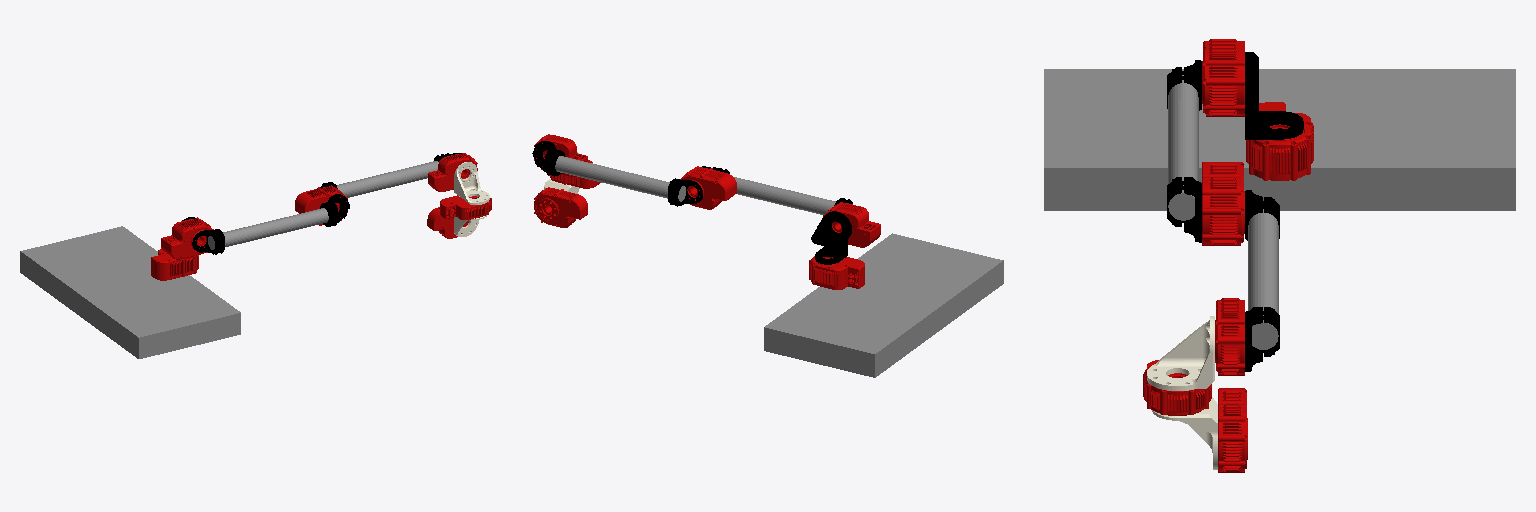
The robot description file, URDF, robot "A-2085-06":
<?xml version="1.0" ?>
<!-- =================================================================================== -->
<!-- |    This document was autogenerated by xacro from A-2085-06.xacro                | -->
<!-- |    EDITING THIS FILE BY HAND IS NOT RECOMMENDED                                 | -->
<!-- =================================================================================== -->
<robot name="A-2085-06" xmlns:xacro="http://www.ros.org/wiki/xacro">
  <!-- *************************** XACRO MACROS *************************** -->
  <!-- ************************* ROBOT DEFINITION ************************* -->
  <link name="world"/>
  <joint name="world_joint" type="fixed">
    <origin rpy="0 0 0" xyz="0 0 0"/>
    <parent link="world"/>
    <child link="base"/>
  </joint>
  <!-- just for visualization: base post -->
  <link name="base">
    <visual>
      <origin rpy="0 0 0" xyz="-.125 0 -.0254"/>
      <geometry>
        <box size="0.25 0.5 0.0508"/>
      </geometry>
      <material name="silver">
        <color rgba="0.6 0.6 0.6 1"/>
      </material>
    </visual>
    <collision>
      <origin rpy="0 0 0" xyz="-.125 0 -.0254"/>
      <geometry>
        <box size="0.25 0.5 0.0508"/>
      </geometry>
    </collision>
    <inertial>
      <origin rpy="0 0 0" xyz=".125 0 -.0254"/>
      <mass value="1.0"/>
      <inertia ixx="1.0" ixy="0.0" ixz="0.0" iyy="1.0" iyz="0.0" izz="1.0"/>
    </inertial>
  </link>
  <joint name="base_base" type="fixed">
    <parent link="base"/>
    <child link="HEBI/base/INPUT_INTERFACE"/>
    <origin rpy="0 0 0" xyz="0 0 0"/>
  </joint>
  <link name="HEBI/base/INPUT_INTERFACE">
    <visual>
      <origin rpy="0 0 0" xyz="0 0 0"/>
      <geometry>
        <mesh filename="package://hebiros_description/meshes/x8.stl" scale="0.001 0.001 0.001"/>
      </geometry>
      <material name="red">
        <color rgba=".82 0.06 0.06 1"/>
      </material>
    </visual>
    <collision>
      <origin rpy="0 0 0" xyz="0 0 0"/>
      <geometry>
        <mesh filename="package://hebiros_description/meshes/x8.stl" scale="0.001 0.001 0.001"/>
      </geometry>
    </collision>
    <inertial>
      <origin rpy="0 0 0" xyz="-0.0145 -0.0031 0.0242"/>
      <mass value="0.480"/>
      <inertia ixx="0.000246" ixy="0.0000444" ixz="0.0000266" iyy="0.000380" iyz="0.00000422" izz="0.000463"/>
    </inertial>
  </link>
  <joint name="HEBI/base/X8_9" type="continuous">
    <parent link="HEBI/base/INPUT_INTERFACE"/>
    <child link="shoulder_bracket/INPUT_INTERFACE"/>
    <origin rpy="0 0 0" xyz="0 0 0.045"/>
    <axis xyz="0 0 1"/>
    <limit effort="20" velocity="30"/>
    <dynamics damping="0.5" friction="0.5"/>
  </joint>
  <transmission name="HEBI/base/transmission">
    <type>transmission_interface/SimpleTransmission</type>
    <joint name="HEBI/base">
      <hardwareInterface>hardware_interface/EffortJointInterface</hardwareInterface>
    </joint>
    <actuator name="HEBI/base/actuator">
      <hardwareInterface>hardware_interface/EffortJointInterface</hardwareInterface>
      <mechanicalReduction>1</mechanicalReduction>
    </actuator>
  </transmission>
  <gazebo reference="HEBI/base/INPUT_INTERFACE">
    <selfCollide>true</selfCollide>
    <gravity>true</gravity>
    <sensor name="HEBI/base/imu_sensor" type="imu">
      <always_on>true</always_on>
      <update_rate>100</update_rate>
      <visualize>true</visualize>
      <plugin filename="libgazebo_ros_imu_sensor.so" name="imu_plugin">
        <topicName>/hebiros_gazebo_plugin/imu/HEBI/base</topicName>
        <bodyName>HEBI/base/imu_link</bodyName>
        <updateRateHZ>10.0</updateRateHZ>
        <gaussianNoise>0.0</gaussianNoise>
        <xyzOffset>0.025 0 0.003</xyzOffset>
        <rpyOffset>0 0 0</rpyOffset>
        <frameName>HEBI/base/imu_link</frameName>
      </plugin>
      <pose>0 0 0 0 0 0</pose>
    </sensor>
  </gazebo>
  <link name="shoulder_bracket/INPUT_INTERFACE">
    <visual>
      <origin rpy="1.57079632679 0 1.57079632679" xyz="0 0 0.005"/>
      <geometry>
        <mesh filename="package://hebiros_description/meshes/PM-2149-01.stl" scale="0.001 0.001 0.001"/>
      </geometry>
      <material name="black">
        <color rgba="0 0 0 1"/>
      </material>
    </visual>
    <visual>
      <origin rpy="1.57079632679 0 0" xyz="0 -.03 .04"/>
      <geometry>
        <mesh filename="package://hebiros_description/meshes/PM-2150-01R.stl" scale="0.001 0.001 0.001"/>
      </geometry>
      <material name="black">
        <color rgba="0 0 0 1"/>
      </material>
    </visual>
    <collision>
      <origin rpy="1.57079632679 0 1.57079632679" xyz="0 0 0.005"/>
      <geometry>
        <mesh filename="package://hebiros_description/meshes/PM-2149-01.stl" scale="0.001 0.001 0.001"/>
      </geometry>
    </collision>
    <collision>
      <origin rpy="1.57079632679 0 0" xyz="0 -.03 .04"/>
      <geometry>
        <mesh filename="package://hebiros_description/meshes/PM-2150-01R.stl" scale="0.001 0.001 0.001"/>
      </geometry>
    </collision>
    <!-- NOTE: inertia is just modelled as small sphere, and could be improved. -->
    <inertial>
      <origin rpy="0 0 0" xyz="0 -0.01875 .0275"/>
      <mass value="0.215"/>
      <inertia ixx="0.0003096" ixy="0.0" ixz="0.0" iyy="0.0003096" iyz="0.0" izz="0.0003096"/>
    </inertial>
  </link>
  <joint name="shoulder_bracket/OUTPUT_INTERFACE" type="fixed">
    <parent link="shoulder_bracket/INPUT_INTERFACE"/>
    <child link="HEBI/shoulder/INPUT_INTERFACE"/>
    <origin rpy="1.57079632679 0 0" xyz="0 -.0375 .055"/>
  </joint>
  <gazebo reference="shoulder_bracket/INPUT_INTERFACE">
    <selfCollide>true</selfCollide>
  </gazebo>
  <link name="HEBI/shoulder/INPUT_INTERFACE">
    <visual>
      <origin rpy="0 0 0" xyz="0 0 0"/>
      <geometry>
        <mesh filename="package://hebiros_description/meshes/x8.stl" scale="0.001 0.001 0.001"/>
      </geometry>
      <material name="red">
        <color rgba=".82 0.06 0.06 1"/>
      </material>
    </visual>
    <collision>
      <origin rpy="0 0 0" xyz="0 0 0"/>
      <geometry>
        <mesh filename="package://hebiros_description/meshes/x8.stl" scale="0.001 0.001 0.001"/>
      </geometry>
    </collision>
    <inertial>
      <origin rpy="0 0 0" xyz="-0.0145 -0.0031 0.0242"/>
      <mass value="0.500"/>
      <inertia ixx="0.000246" ixy="0.0000444" ixz="0.0000266" iyy="0.000380" iyz="0.00000422" izz="0.000463"/>
    </inertial>
  </link>
  <joint name="HEBI/shoulder/X8_16" type="continuous">
    <parent link="HEBI/shoulder/INPUT_INTERFACE"/>
    <child link="shoulder_elbow/INPUT_INTERFACE"/>
    <origin rpy="0 0 0" xyz="0 0 0.045"/>
    <axis xyz="0 0 1"/>
    <limit effort="38" velocity="15"/>
    <dynamics damping="0.5" friction="0.5"/>
  </joint>
  <transmission name="HEBI/shoulder/transmission">
    <type>transmission_interface/SimpleTransmission</type>
    <joint name="HEBI/shoulder">
      <hardwareInterface>hardware_interface/EffortJointInterface</hardwareInterface>
    </joint>
    <actuator name="HEBI/shoulder/actuator">
      <hardwareInterface>hardware_interface/EffortJointInterface</hardwareInterface>
      <mechanicalReduction>1</mechanicalReduction>
    </actuator>
  </transmission>
  <gazebo reference="HEBI/shoulder/INPUT_INTERFACE">
    <selfCollide>true</selfCollide>
    <gravity>true</gravity>
    <sensor name="HEBI/shoulder/imu_sensor" type="imu">
      <always_on>true</always_on>
      <update_rate>100</update_rate>
      <visualize>true</visualize>
      <plugin filename="libgazebo_ros_imu_sensor.so" name="imu_plugin">
        <topicName>/hebiros_gazebo_plugin/imu/HEBI/shoulder</topicName>
        <bodyName>HEBI/shoulder/imu_link</bodyName>
        <updateRateHZ>10.0</updateRateHZ>
        <gaussianNoise>0.0</gaussianNoise>
        <xyzOffset>0.025 0 0.003</xyzOffset>
        <rpyOffset>0 0 0</rpyOffset>
        <frameName>HEBI/shoulder/imu_link</frameName>
      </plugin>
      <pose>0 0 0 0 0 0</pose>
    </sensor>
  </gazebo>
  <link name="shoulder_elbow/INPUT_INTERFACE">
    <visual>
      <origin rpy="0 0 0" xyz="0 0 0"/>
      <geometry>
        <mesh filename="package://hebiros_description/meshes/A-2038-02.stl"/>
      </geometry>
      <material name="black">
        <color rgba="0 0 0 1"/>
      </material>
    </visual>
    <visual>
      <origin rpy="0 1.57075 0" xyz="0.1625 0 0.02"/>
      <geometry>
        <cylinder length="0.2996" radius=".016"/>
      </geometry>
      <material name="silver">
        <color rgba="0.6 0.6 0.6 1"/>
      </material>
    </visual>
    <visual>
      <origin rpy="-3.14159265359 0 0" xyz="0.325 -2.44929359829e-18 0.0"/>
      <geometry>
        <mesh filename="package://hebiros_description/meshes/A-2039-02.stl"/>
      </geometry>
      <material name="black">
        <color rgba="0 0 0 1"/>
      </material>
    </visual>
    <collision>
      <origin rpy="0 0 0" xyz="0 0 0"/>
      <geometry>
        <mesh filename="package://hebiros_description/meshes/A-2038-02.stl"/>
      </geometry>
    </collision>
    <collision>
      <origin rpy="0 1.57075 0" xyz="0.1625 0 0.02"/>
      <geometry>
        <cylinder length="0.2996" radius=".016"/>
      </geometry>
    </collision>
    <collision>
      <origin rpy="-3.14159265359 0 0" xyz="0.325 -2.44929359829e-18 0.0"/>
      <geometry>
        <mesh filename="package://hebiros_description/meshes/A-2039-02.stl"/>
      </geometry>
    </collision>
    <!-- Approximate inertia as thin rod about x axis -->
    <inertial>
      <origin rpy="0 0 0" xyz="0.1625 0 0.02"/>
      <mass value="0.402"/>
      <inertia ixx="0.0" ixy="0.0" ixz="0.0" iyy="0.0035384375" iyz="0.0" izz="0.0035384375"/>
    </inertial>
  </link>
  <joint name="shoulder_elbow/OUTPUT_JOINT" type="fixed">
    <parent link="shoulder_elbow/INPUT_INTERFACE"/>
    <child link="HEBI/elbow/INPUT_INTERFACE"/>
    <origin rpy="3.14159265359 0 0" xyz="0.325 -2.44929359829e-18 0.0"/>
  </joint>
  <gazebo reference="shoulder_elbow/INPUT_INTERFACE">
    <selfCollide>true</selfCollide>
  </gazebo>
  <link name="HEBI/elbow/INPUT_INTERFACE">
    <visual>
      <origin rpy="0 0 0" xyz="0 0 0"/>
      <geometry>
        <mesh filename="package://hebiros_description/meshes/x8.stl" scale="0.001 0.001 0.001"/>
      </geometry>
      <material name="red">
        <color rgba=".82 0.06 0.06 1"/>
      </material>
    </visual>
    <collision>
      <origin rpy="0 0 0" xyz="0 0 0"/>
      <geometry>
        <mesh filename="package://hebiros_description/meshes/x8.stl" scale="0.001 0.001 0.001"/>
      </geometry>
    </collision>
    <inertial>
      <origin rpy="0 0 0" xyz="-0.0145 -0.0031 0.0242"/>
      <mass value="0.480"/>
      <inertia ixx="0.000246" ixy="0.0000444" ixz="0.0000266" iyy="0.000380" iyz="0.00000422" izz="0.000463"/>
    </inertial>
  </link>
  <joint name="HEBI/elbow/X8_9" type="continuous">
    <parent link="HEBI/elbow/INPUT_INTERFACE"/>
    <child link="elbow_wrist1/INPUT_INTERFACE"/>
    <origin rpy="0 0 0" xyz="0 0 0.045"/>
    <axis xyz="0 0 1"/>
    <limit effort="20" velocity="30"/>
    <dynamics damping="0.5" friction="0.5"/>
  </joint>
  <transmission name="HEBI/elbow/transmission">
    <type>transmission_interface/SimpleTransmission</type>
    <joint name="HEBI/elbow">
      <hardwareInterface>hardware_interface/EffortJointInterface</hardwareInterface>
    </joint>
    <actuator name="HEBI/elbow/actuator">
      <hardwareInterface>hardware_interface/EffortJointInterface</hardwareInterface>
      <mechanicalReduction>1</mechanicalReduction>
    </actuator>
  </transmission>
  <gazebo reference="HEBI/elbow/INPUT_INTERFACE">
    <selfCollide>true</selfCollide>
    <gravity>true</gravity>
    <sensor name="HEBI/elbow/imu_sensor" type="imu">
      <always_on>true</always_on>
      <update_rate>100</update_rate>
      <visualize>true</visualize>
      <plugin filename="libgazebo_ros_imu_sensor.so" name="imu_plugin">
        <topicName>/hebiros_gazebo_plugin/imu/HEBI/elbow</topicName>
        <bodyName>HEBI/elbow/imu_link</bodyName>
        <updateRateHZ>10.0</updateRateHZ>
        <gaussianNoise>0.0</gaussianNoise>
        <xyzOffset>0.025 0 0.003</xyzOffset>
        <rpyOffset>0 0 0</rpyOffset>
        <frameName>HEBI/elbow/imu_link</frameName>
      </plugin>
      <pose>0 0 0 0 0 0</pose>
    </sensor>
  </gazebo>
  <link name="elbow_wrist1/INPUT_INTERFACE">
    <visual>
      <origin rpy="0 0 0" xyz="0 0 0"/>
      <geometry>
        <mesh filename="package://hebiros_description/meshes/A-2038-02.stl"/>
      </geometry>
      <material name="black">
        <color rgba="0 0 0 1"/>
      </material>
    </visual>
    <visual>
      <origin rpy="0 1.57075 0" xyz="0.1625 0 0.02"/>
      <geometry>
        <cylinder length="0.2996" radius=".016"/>
      </geometry>
      <material name="silver">
        <color rgba="0.6 0.6 0.6 1"/>
      </material>
    </visual>
    <visual>
      <origin rpy="-3.14159265359 0 0" xyz="0.325 -2.44929359829e-18 0.0"/>
      <geometry>
        <mesh filename="package://hebiros_description/meshes/A-2039-02.stl"/>
      </geometry>
      <material name="black">
        <color rgba="0 0 0 1"/>
      </material>
    </visual>
    <collision>
      <origin rpy="0 0 0" xyz="0 0 0"/>
      <geometry>
        <mesh filename="package://hebiros_description/meshes/A-2038-02.stl"/>
      </geometry>
    </collision>
    <collision>
      <origin rpy="0 1.57075 0" xyz="0.1625 0 0.02"/>
      <geometry>
        <cylinder length="0.2996" radius=".016"/>
      </geometry>
    </collision>
    <collision>
      <origin rpy="-3.14159265359 0 0" xyz="0.325 -2.44929359829e-18 0.0"/>
      <geometry>
        <mesh filename="package://hebiros_description/meshes/A-2039-02.stl"/>
      </geometry>
    </collision>
    <!-- Approximate inertia as thin rod about x axis -->
    <inertial>
      <origin rpy="0 0 0" xyz="0.1625 0 0.02"/>
      <mass value="0.402"/>
      <inertia ixx="0.0" ixy="0.0" ixz="0.0" iyy="0.0035384375" iyz="0.0" izz="0.0035384375"/>
    </inertial>
  </link>
  <joint name="elbow_wrist1/OUTPUT_JOINT" type="fixed">
    <parent link="elbow_wrist1/INPUT_INTERFACE"/>
    <child link="HEBI/wrist1/INPUT_INTERFACE"/>
    <origin rpy="3.14159265359 0 0" xyz="0.325 -2.44929359829e-18 0.0"/>
  </joint>
  <gazebo reference="elbow_wrist1/INPUT_INTERFACE">
    <selfCollide>true</selfCollide>
  </gazebo>
  <link name="HEBI/wrist1/INPUT_INTERFACE">
    <visual>
      <origin rpy="0 0 0" xyz="0 0 0"/>
      <geometry>
        <mesh filename="package://hebiros_description/meshes/x5.stl" scale="0.001 0.001 0.001"/>
      </geometry>
      <material name="red">
        <color rgba=".82 0.06 0.06 1"/>
      </material>
    </visual>
    <collision>
      <origin rpy="0 0 0" xyz="0 0 0"/>
      <geometry>
        <mesh filename="package://hebiros_description/meshes/x5.stl" scale="0.001 0.001 0.001"/>
      </geometry>
    </collision>
    <inertial>
      <origin rpy="0 0 0" xyz="-0.0142 -0.0031 0.0165"/>
      <mass value="0.315"/>
      <inertia ixx="0.00015" ixy="0.0000341" ixz="0.0000118" iyy="0.000255" iyz="0.00000229" izz="0.000350"/>
    </inertial>
  </link>
  <joint name="HEBI/wrist1/X5_1" type="continuous">
    <parent link="HEBI/wrist1/INPUT_INTERFACE"/>
    <child link="wrist1_wrist2/INPUT_INTERFACE"/>
    <origin rpy="0 0 0" xyz="0 0 0.031"/>
    <axis xyz="0 0 1"/>
    <limit effort="2.5" velocity="90"/>
    <dynamics damping="0.1" friction="0.1"/>
  </joint>
  <gazebo reference="HEBI/wrist1/INPUT_INTERFACE">
    <selfCollide>true</selfCollide>
    <gravity>true</gravity>
    <sensor name="HEBI/wrist1/imu_sensor" type="imu">
      <always_on>true</always_on>
      <update_rate>100</update_rate>
      <visualize>true</visualize>
      <plugin filename="libgazebo_ros_imu_sensor.so" name="imu_plugin">
        <topicName>/hebiros_gazebo_plugin/imu/HEBI/wrist1</topicName>
        <bodyName>HEBI/wrist1/imu_link</bodyName>
        <updateRateHZ>10.0</updateRateHZ>
        <gaussianNoise>0.0</gaussianNoise>
        <xyzOffset>0.025 0 0.003</xyzOffset>
        <rpyOffset>0 0 0</rpyOffset>
        <frameName>HEBI/wrist1/imu_link</frameName>
      </plugin>
      <pose>0 0 0 0 0 0</pose>
    </sensor>
  </gazebo>
  <link name="wrist1_wrist2/INPUT_INTERFACE">
    <visual>
      <origin rpy="1.57079632679 0 -1.57079632679" xyz="0 0 0"/>
      <geometry>
        <mesh filename="package://hebiros_description/meshes/PM-2132-01R.stl" scale="0.001 0.001 0.001"/>
      </geometry>
      <material name="beige">
        <color rgba="0.96 0.945 0.871 1"/>
      </material>
    </visual>
    <collision>
      <origin rpy="1.57079632679 0 -1.57079632679" xyz="0 0 0"/>
      <geometry>
        <mesh filename="package://hebiros_description/meshes/PM-2132-01R.stl" scale="0.001 0.001 0.001"/>
      </geometry>
    </collision>
    <!-- NOTE: inertia is just modelled as small sphere, and could be improved. -->
    <inertial>
      <origin rpy="0 0 0" xyz="0 -.0215 .02"/>
      <mass value="0.1"/>
      <inertia ixx="0.000144" ixy="0.0" ixz="0.0" iyy="0.000144" iyz="0.0" izz="0.000144"/>
    </inertial>
  </link>
  <joint name="wrist1_wrist2/OUTPUT_INTERFACE" type="fixed">
    <parent link="wrist1_wrist2/INPUT_INTERFACE"/>
    <child link="HEBI/wrist2/INPUT_INTERFACE"/>
    <origin rpy="1.57079632679 0 0" xyz="0 -.043 .04"/>
  </joint>
  <gazebo reference="wrist1_wrist2/INPUT_INTERFACE">
    <selfCollide>true</selfCollide>
  </gazebo>
  <link name="HEBI/wrist2/INPUT_INTERFACE">
    <visual>
      <origin rpy="0 0 0" xyz="0 0 0"/>
      <geometry>
        <mesh filename="package://hebiros_description/meshes/x5.stl" scale="0.001 0.001 0.001"/>
      </geometry>
      <material name="red">
        <color rgba=".82 0.06 0.06 1"/>
      </material>
    </visual>
    <collision>
      <origin rpy="0 0 0" xyz="0 0 0"/>
      <geometry>
        <mesh filename="package://hebiros_description/meshes/x5.stl" scale="0.001 0.001 0.001"/>
      </geometry>
    </collision>
    <inertial>
      <origin rpy="0 0 0" xyz="-0.0142 -0.0031 0.0165"/>
      <mass value="0.315"/>
      <inertia ixx="0.00015" ixy="0.0000341" ixz="0.0000118" iyy="0.000255" iyz="0.00000229" izz="0.000350"/>
    </inertial>
  </link>
  <joint name="HEBI/wrist2/X5_1" type="continuous">
    <parent link="HEBI/wrist2/INPUT_INTERFACE"/>
    <child link="wrist2_wrist3/INPUT_INTERFACE"/>
    <origin rpy="0 0 0" xyz="0 0 0.031"/>
    <axis xyz="0 0 1"/>
    <limit effort="2.5" velocity="90"/>
    <dynamics damping="0.1" friction="0.1"/>
  </joint>
  <gazebo reference="HEBI/wrist2/INPUT_INTERFACE">
    <selfCollide>true</selfCollide>
    <gravity>true</gravity>
    <sensor name="HEBI/wrist2/imu_sensor" type="imu">
      <always_on>true</always_on>
      <update_rate>100</update_rate>
      <visualize>true</visualize>
      <plugin filename="libgazebo_ros_imu_sensor.so" name="imu_plugin">
        <topicName>/hebiros_gazebo_plugin/imu/HEBI/wrist2</topicName>
        <bodyName>HEBI/wrist2/imu_link</bodyName>
        <updateRateHZ>10.0</updateRateHZ>
        <gaussianNoise>0.0</gaussianNoise>
        <xyzOffset>0.025 0 0.003</xyzOffset>
        <rpyOffset>0 0 0</rpyOffset>
        <frameName>HEBI/wrist2/imu_link</frameName>
      </plugin>
      <pose>0 0 0 0 0 0</pose>
    </sensor>
  </gazebo>
  <link name="wrist2_wrist3/INPUT_INTERFACE">
    <visual>
      <origin rpy="1.57079632679 0 -1.57079632679" xyz="0 0 0"/>
      <geometry>
        <mesh filename="package://hebiros_description/meshes/PM-2132-01R.stl" scale="0.001 0.001 0.001"/>
      </geometry>
      <material name="beige">
        <color rgba="0.96 0.945 0.871 1"/>
      </material>
    </visual>
    <collision>
      <origin rpy="1.57079632679 0 -1.57079632679" xyz="0 0 0"/>
      <geometry>
        <mesh filename="package://hebiros_description/meshes/PM-2132-01R.stl" scale="0.001 0.001 0.001"/>
      </geometry>
    </collision>
    <!-- NOTE: inertia is just modelled as small sphere, and could be improved. -->
    <inertial>
      <origin rpy="0 0 0" xyz="0 -.0215 .02"/>
      <mass value="0.1"/>
      <inertia ixx="0.000144" ixy="0.0" ixz="0.0" iyy="0.000144" iyz="0.0" izz="0.000144"/>
    </inertial>
  </link>
  <joint name="wrist2_wrist3/OUTPUT_INTERFACE" type="fixed">
    <parent link="wrist2_wrist3/INPUT_INTERFACE"/>
    <child link="HEBI/wrist3/INPUT_INTERFACE"/>
    <origin rpy="1.57079632679 0 0" xyz="0 -.043 .04"/>
  </joint>
  <gazebo reference="wrist2_wrist3/INPUT_INTERFACE">
    <selfCollide>true</selfCollide>
  </gazebo>
  <link name="HEBI/wrist3/INPUT_INTERFACE">
    <visual>
      <origin rpy="0 0 0" xyz="0 0 0"/>
      <geometry>
        <mesh filename="package://hebiros_description/meshes/x5.stl" scale="0.001 0.001 0.001"/>
      </geometry>
      <material name="red">
        <color rgba=".82 0.06 0.06 1"/>
      </material>
    </visual>
    <collision>
      <origin rpy="0 0 0" xyz="0 0 0"/>
      <geometry>
        <mesh filename="package://hebiros_description/meshes/x5.stl" scale="0.001 0.001 0.001"/>
      </geometry>
    </collision>
    <inertial>
      <origin rpy="0 0 0" xyz="-0.0142 -0.0031 0.0165"/>
      <mass value="0.315"/>
      <inertia ixx="0.00015" ixy="0.0000341" ixz="0.0000118" iyy="0.000255" iyz="0.00000229" izz="0.000350"/>
    </inertial>
  </link>
  <joint name="HEBI/wrist3/X5_1" type="continuous">
    <parent link="HEBI/wrist3/INPUT_INTERFACE"/>
    <child link="end_effector/INPUT_INTERFACE"/>
    <origin rpy="0 0 0" xyz="0 0 0.031"/>
    <axis xyz="0 0 1"/>
    <limit effort="2.5" velocity="90"/>
    <dynamics damping="0.1" friction="0.1"/>
  </joint>
  <gazebo reference="HEBI/wrist3/INPUT_INTERFACE">
    <selfCollide>true</selfCollide>
    <gravity>true</gravity>
    <sensor name="HEBI/wrist3/imu_sensor" type="imu">
      <always_on>true</always_on>
      <update_rate>100</update_rate>
      <visualize>true</visualize>
      <plugin filename="libgazebo_ros_imu_sensor.so" name="imu_plugin">
        <topicName>/hebiros_gazebo_plugin/imu/HEBI/wrist3</topicName>
        <bodyName>HEBI/wrist3/imu_link</bodyName>
        <updateRateHZ>10.0</updateRateHZ>
        <gaussianNoise>0.0</gaussianNoise>
        <xyzOffset>0.025 0 0.003</xyzOffset>
        <rpyOffset>0 0 0</rpyOffset>
        <frameName>HEBI/wrist3/imu_link</frameName>
      </plugin>
      <pose>0 0 0 0 0 0</pose>
    </sensor>
  </gazebo>
  <!-- end link -->
  <link name="end_effector/INPUT_INTERFACE">
  </link>
  <gazebo reference="base">
    <selfCollide>true</selfCollide>
  </gazebo>
  <gazebo>
    <plugin filename="libhebiros_gazebo_plugin.so" name="hebiros_gazebo_plugin">
    </plugin>
  </gazebo>
</robot>

--- Facts derived from the render (not from the file) ---
The picture shows the robot from 3 angles, left to right: view 1: azimuth 30°, elevation 25°; view 2: azimuth 150°, elevation 25°; view 3: azimuth 270°, elevation 25°; orthographic projection.
Robot: A-2085-06 — 14 links, 13 joints (6 continuous, 7 fixed); root link world; default pose: every joint at zero.
Visible links, largest first — view 1: base, shoulder_elbow/INPUT_INTERFACE, elbow_wrist1/INPUT_INTERFACE, HEBI/shoulder/INPUT_INTERFACE, HEBI/base/INPUT_INTERFACE, HEBI/wrist1/INPUT_INTERFACE, wrist1_wrist2/INPUT_INTERFACE, HEBI/wrist2/INPUT_INTERFACE, HEBI/elbow/INPUT_INTERFACE, HEBI/wrist3/INPUT_INTERFACE; view 2: base, elbow_wrist1/INPUT_INTERFACE, shoulder_elbow/INPUT_INTERFACE, HEBI/wrist3/INPUT_INTERFACE, HEBI/base/INPUT_INTERFACE, HEBI/elbow/INPUT_INTERFACE, shoulder_bracket/INPUT_INTERFACE, HEBI/shoulder/INPUT_INTERFACE, HEBI/wrist1/INPUT_INTERFACE; view 3: base, elbow_wrist1/INPUT_INTERFACE, shoulder_elbow/INPUT_INTERFACE, HEBI/elbow/INPUT_INTERFACE, HEBI/shoulder/INPUT_INTERFACE, HEBI/base/INPUT_INTERFACE, wrist1_wrist2/INPUT_INTERFACE, HEBI/wrist3/INPUT_INTERFACE, shoulder_bracket/INPUT_INTERFACE, HEBI/wrist1/INPUT_INTERFACE, HEBI/wrist2/INPUT_INTERFACE, wrist2_wrist3/INPUT_INTERFACE.
Boxes of the visible links, x1=… form: base: x1=20, y1=226, x2=240, y2=358; shoulder_elbow/INPUT_INTERFACE: x1=192, y1=194, x2=349, y2=254; elbow_wrist1/INPUT_INTERFACE: x1=320, y1=153, x2=461, y2=197; HEBI/shoulder/INPUT_INTERFACE: x1=161, y1=217, x2=213, y2=259; HEBI/base/INPUT_INTERFACE: x1=151, y1=248, x2=198, y2=280; HEBI/wrist1/INPUT_INTERFACE: x1=428, y1=153, x2=477, y2=191; wrist1_wrist2/INPUT_INTERFACE: x1=454, y1=162, x2=489, y2=204; HEBI/wrist2/INPUT_INTERFACE: x1=440, y1=195, x2=491, y2=219; HEBI/elbow/INPUT_INTERFACE: x1=295, y1=185, x2=347, y2=225; HEBI/wrist3/INPUT_INTERFACE: x1=427, y1=207, x2=468, y2=238; base: x1=764, y1=233, x2=1003, y2=377; elbow_wrist1/INPUT_INTERFACE: x1=532, y1=141, x2=702, y2=206; shoulder_elbow/INPUT_INTERFACE: x1=702, y1=166, x2=852, y2=214; HEBI/wrist3/INPUT_INTERFACE: x1=534, y1=187, x2=587, y2=227; HEBI/base/INPUT_INTERFACE: x1=809, y1=256, x2=864, y2=289; HEBI/elbow/INPUT_INTERFACE: x1=680, y1=166, x2=736, y2=209; shoulder_bracket/INPUT_INTERFACE: x1=811, y1=211, x2=851, y2=264; HEBI/shoulder/INPUT_INTERFACE: x1=823, y1=202, x2=880, y2=247; HEBI/wrist1/INPUT_INTERFACE: x1=534, y1=134, x2=587, y2=176; base: x1=1044, y1=69, x2=1515, y2=210; elbow_wrist1/INPUT_INTERFACE: x1=1245, y1=190, x2=1279, y2=371; shoulder_elbow/INPUT_INTERFACE: x1=1167, y1=60, x2=1201, y2=242; HEBI/elbow/INPUT_INTERFACE: x1=1202, y1=162, x2=1244, y2=245; HEBI/shoulder/INPUT_INTERFACE: x1=1202, y1=39, x2=1244, y2=116; HEBI/base/INPUT_INTERFACE: x1=1246, y1=102, x2=1313, y2=180; wrist1_wrist2/INPUT_INTERFACE: x1=1147, y1=316, x2=1214, y2=390; HEBI/wrist3/INPUT_INTERFACE: x1=1218, y1=388, x2=1247, y2=472; shoulder_bracket/INPUT_INTERFACE: x1=1245, y1=52, x2=1303, y2=139; HEBI/wrist1/INPUT_INTERFACE: x1=1215, y1=298, x2=1244, y2=375; HEBI/wrist2/INPUT_INTERFACE: x1=1143, y1=360, x2=1211, y2=415; wrist2_wrist3/INPUT_INTERFACE: x1=1152, y1=397, x2=1217, y2=469.
Bounding box of the posed robot: 0.9365 × 0.5 × 0.1873 m (x, y, z).
Meshes: 7 distinct files referenced, 14 mesh visuals loaded (7 binary STL).